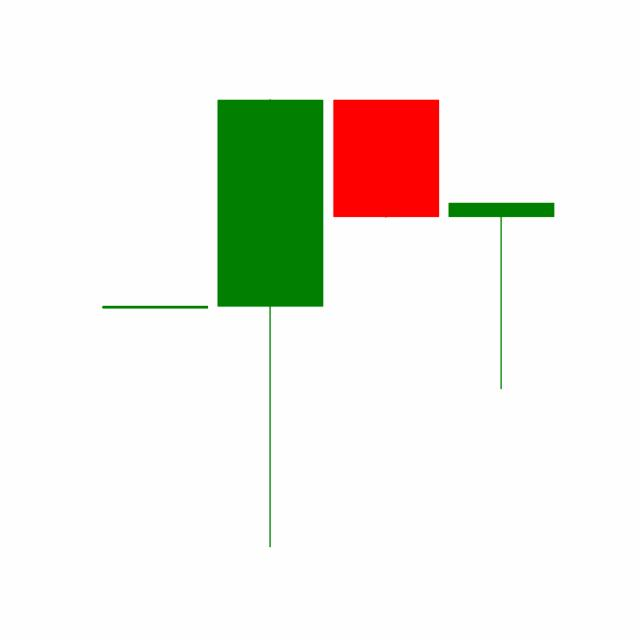Hanging Man: (443, 200, 559, 391)
